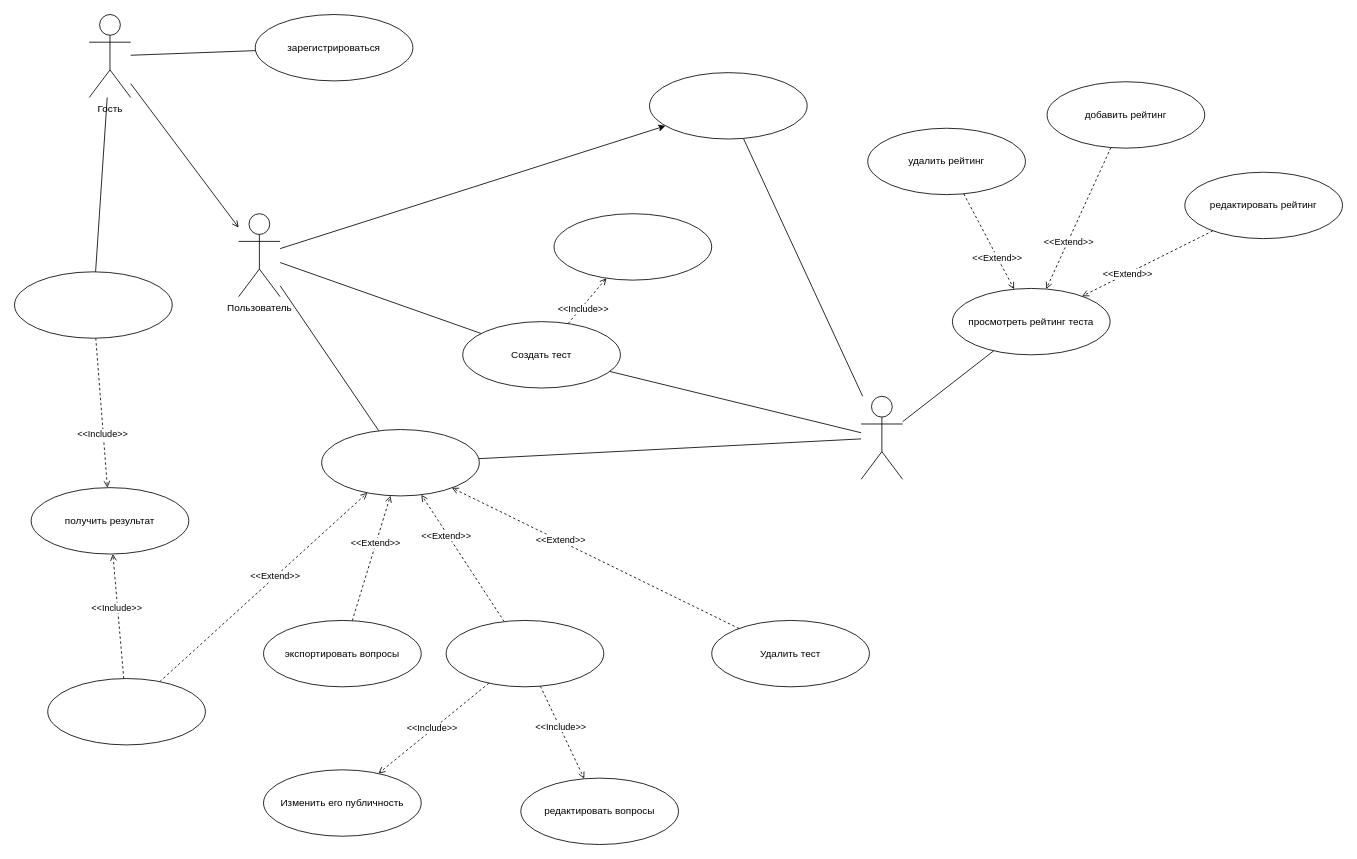
Image size: 1357x859. Some labels were removed from this diagram. Here are the shapes that lost their labels. From the top down, the centre of each, then its label:
the point at 728,105: авторизироваться
the point at 632,246: Создать вопрос
the point at 93,304: Пройти публичный тест
the point at 881,437: Администратор
the point at 400,462: просмотреть тест
the point at 524,653: Редактировать тест
the point at 126,711: Пройти тест
